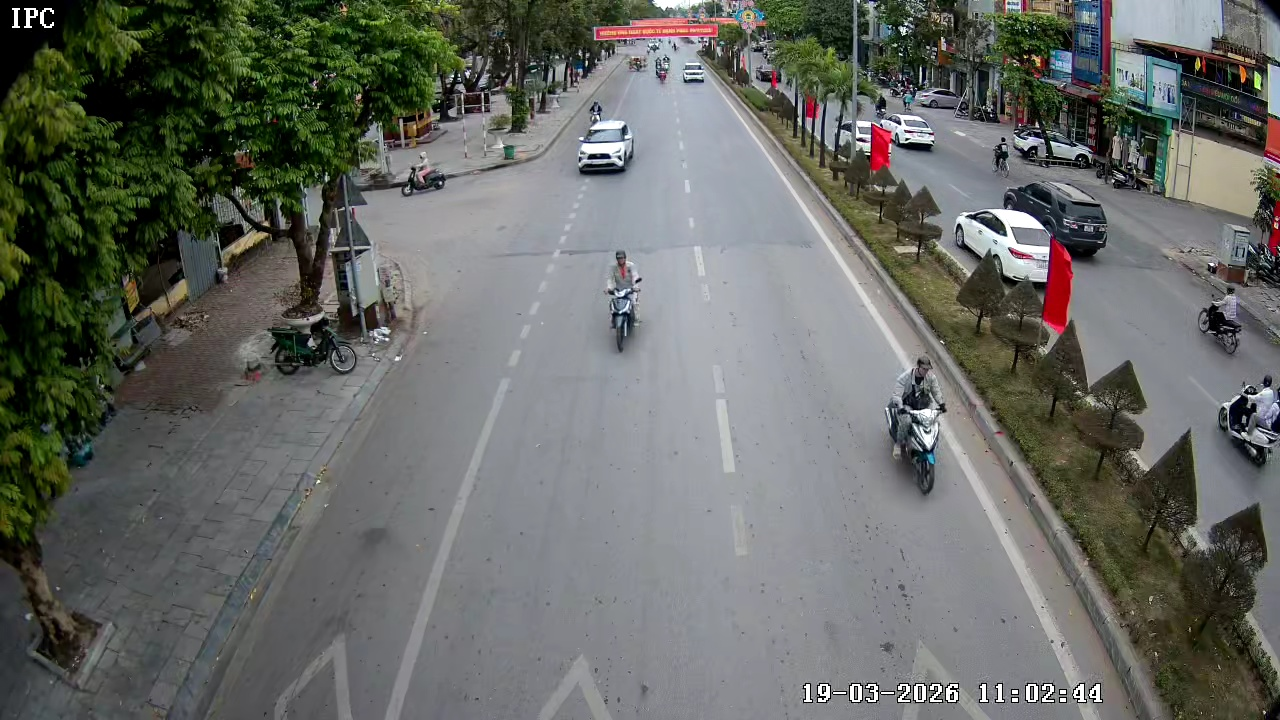car: (998, 178, 1110, 258), (951, 207, 1054, 287), (576, 114, 635, 176), (682, 61, 707, 84)
motorbike: (251, 298, 373, 387), (885, 353, 949, 493), (1218, 372, 1279, 466), (602, 247, 653, 353), (1198, 271, 1244, 354), (402, 147, 451, 197), (589, 98, 604, 125), (657, 62, 670, 83)
